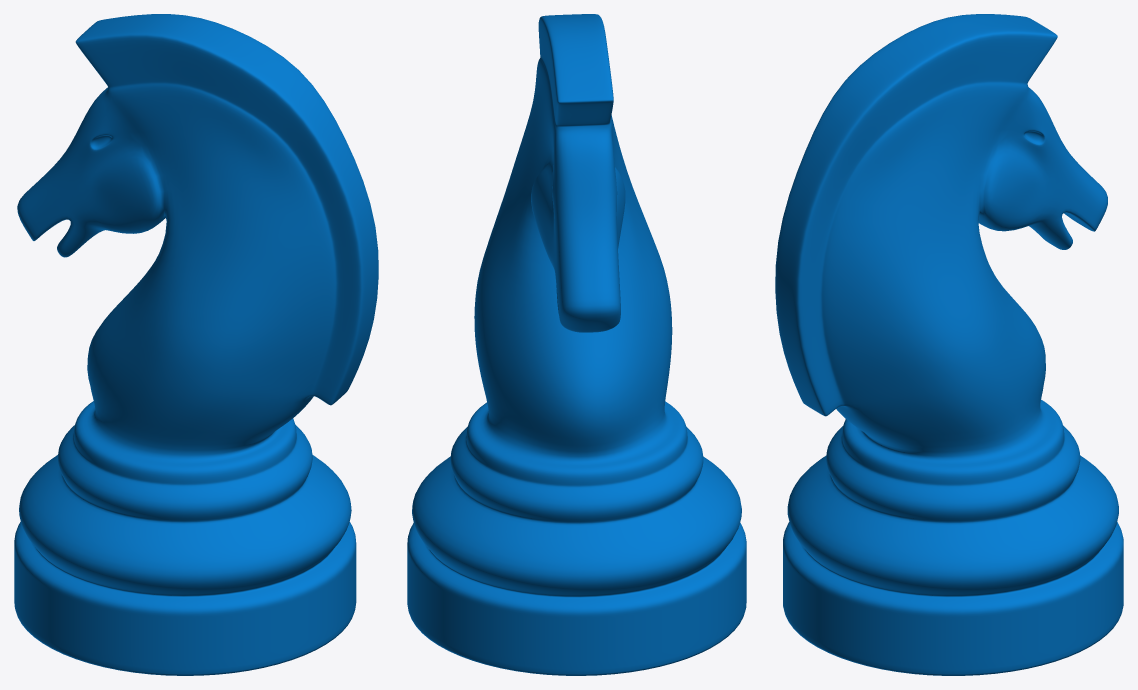
The model's file is blue_horse.glb.
3 renders of one model, left to right at view 1: azimuth 30°, elevation 25°; view 2: azimuth 150°, elevation 25°; view 3: azimuth 270°, elevation 25°, orthographic.
Parts seen in each view (by area): view 1: High_Poly_White_Knight_001__3_; view 2: High_Poly_White_Knight_001__3_; view 3: High_Poly_White_Knight_001__3_.
Part boxes in pixels (x1=…): High_Poly_White_Knight_001__3_: x1=14, y1=14, x2=378, y2=675; High_Poly_White_Knight_001__3_: x1=407, y1=14, x2=746, y2=675; High_Poly_White_Knight_001__3_: x1=775, y1=14, x2=1123, y2=675.
Size of the model in its own units: 0.3479 by 0.6484 by 0.3556.
